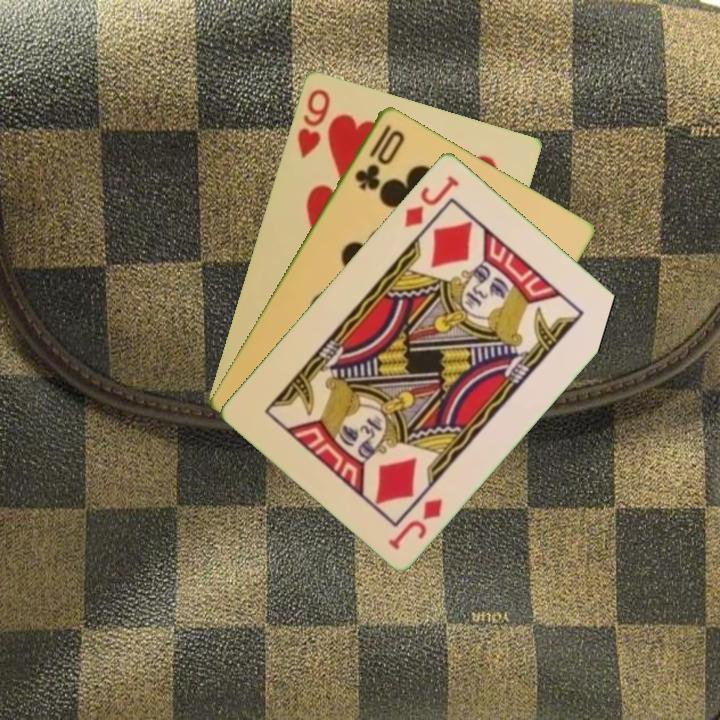10c: (350, 120, 408, 193)
9h: (293, 84, 333, 161)
Jd: (400, 171, 462, 230), (384, 494, 446, 552)
